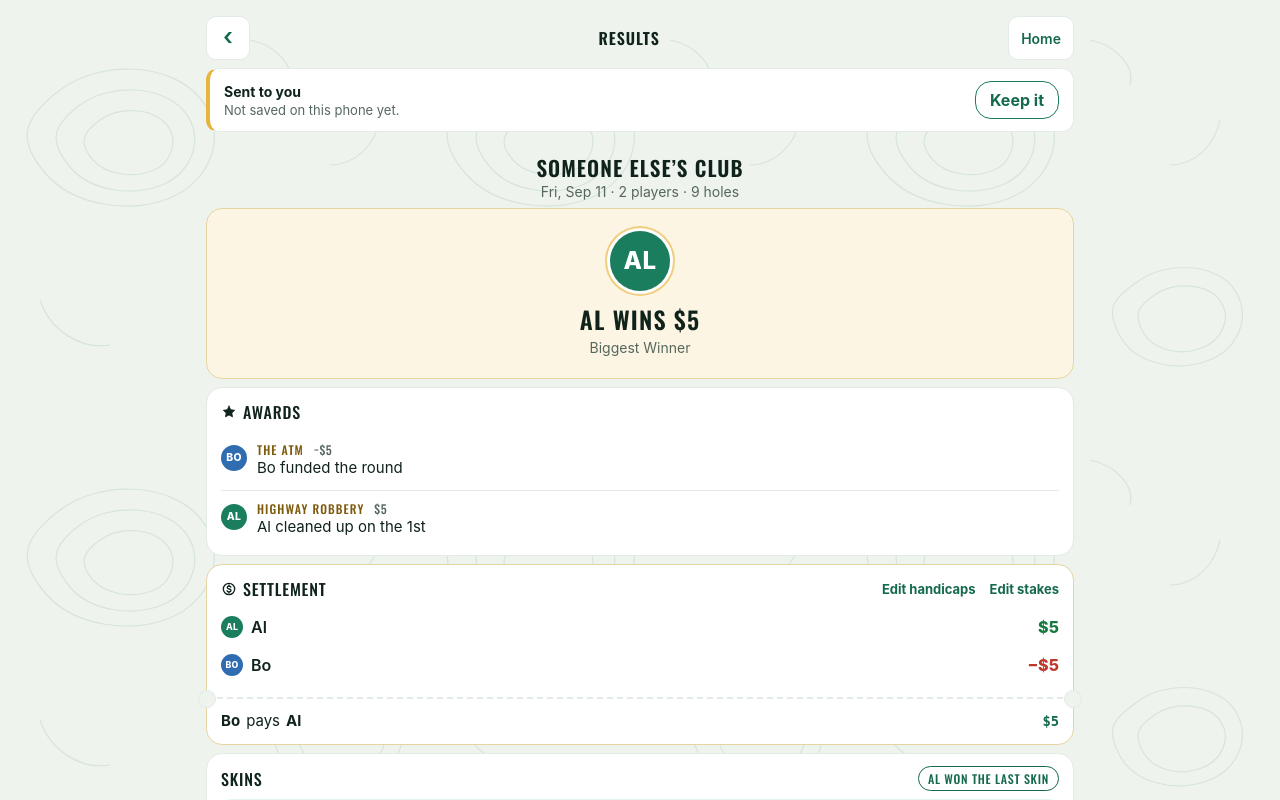
a round that arrives by link › keeps it only when asked, and then says nothing more about it
Check: the heading "Results" is shown, box [598,26,660,50]
Click the button "Keep it": (1017, 100) [975,81,1059,119]
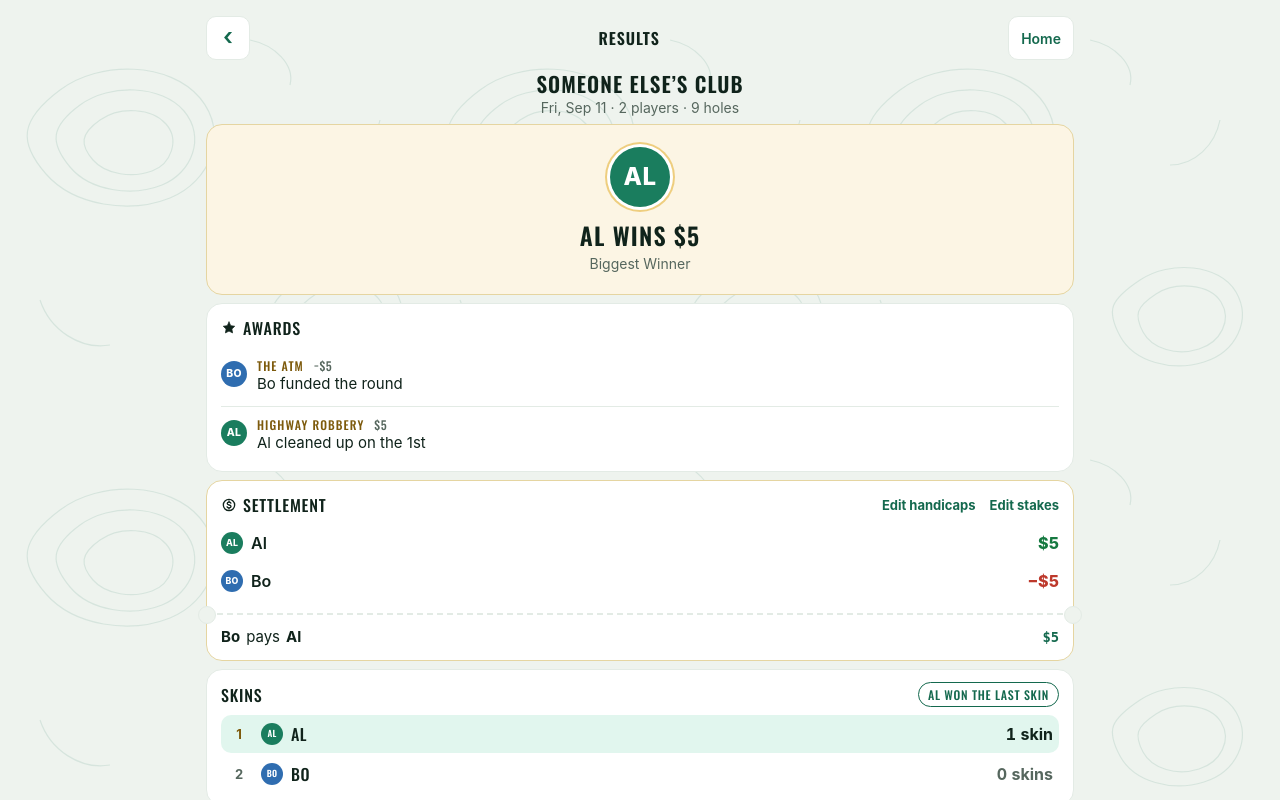
Check: the text "Sent to you" is gone
